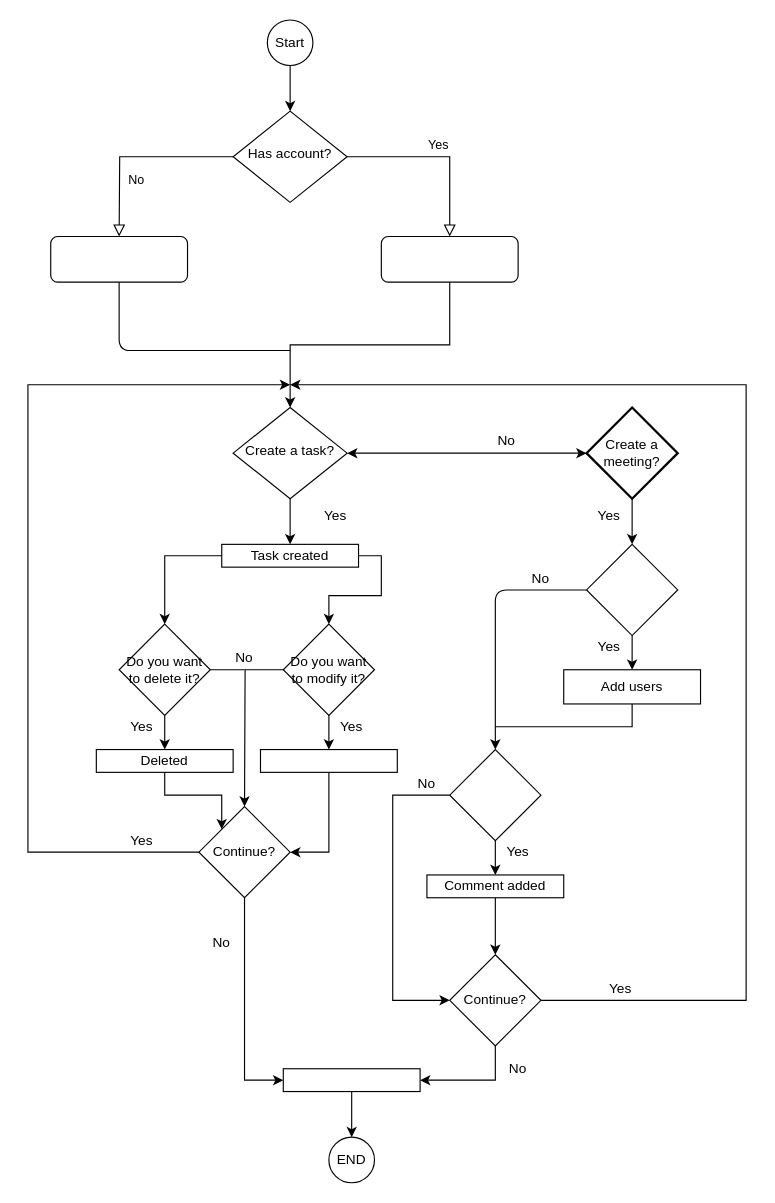
Image size: 775x1203. Some labels were removed from this diagram. Here are the shapes that lost their labels. From the top down, the centre of each, then its label:
point 119,258: Sign Up
point 449,258: Log in
point 631,589: Require another users?
point 328,760: Modify
point 495,794: Leave a comment?
point 351,1080: Log out
